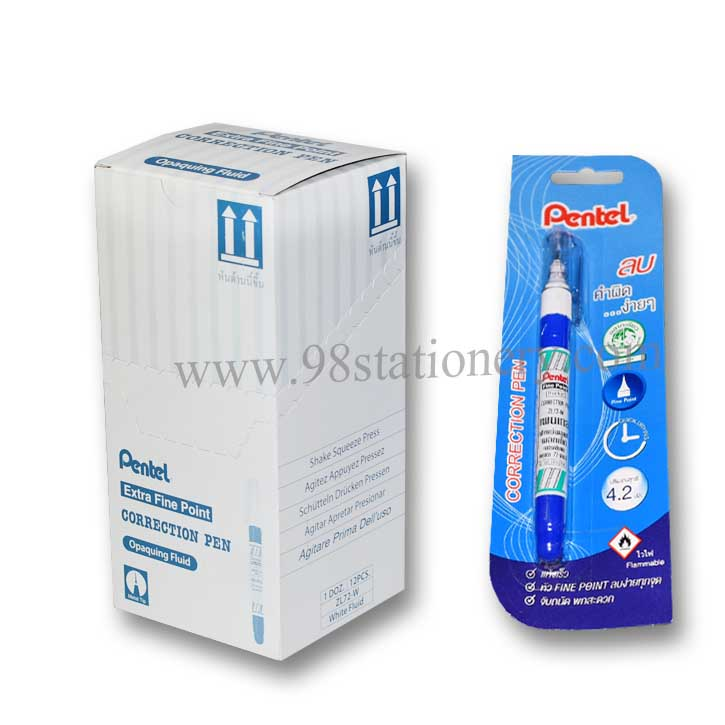Correction_fluid: (525, 225, 587, 572)
